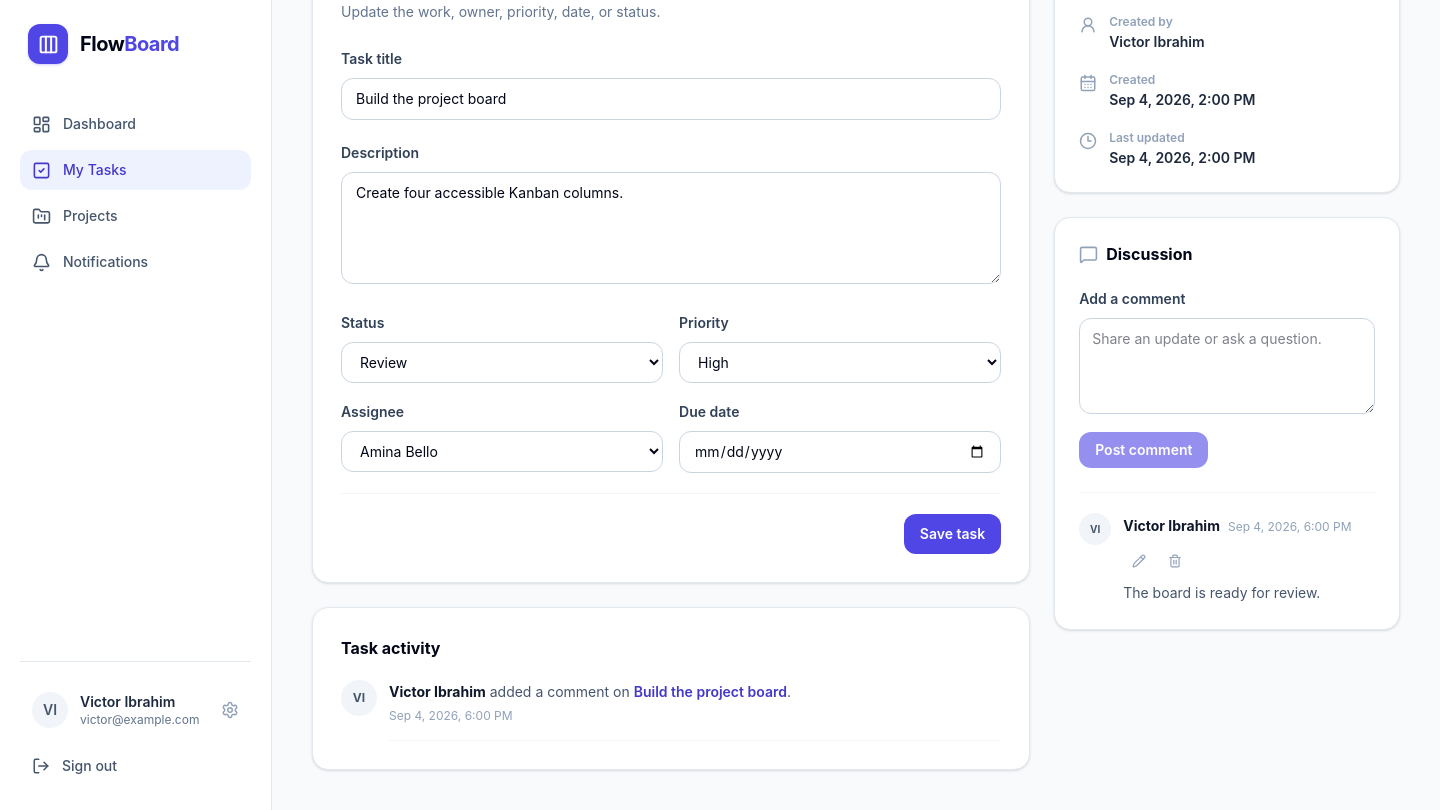
Test: FlowBoard comments and activity UI › edits the signed-in user's own comment
The image size is (1440, 810).
(page scrolled)
Click the button named "Edit comment by Victor Ibrahim" at (1139, 561), box [1123,545,1155,577]
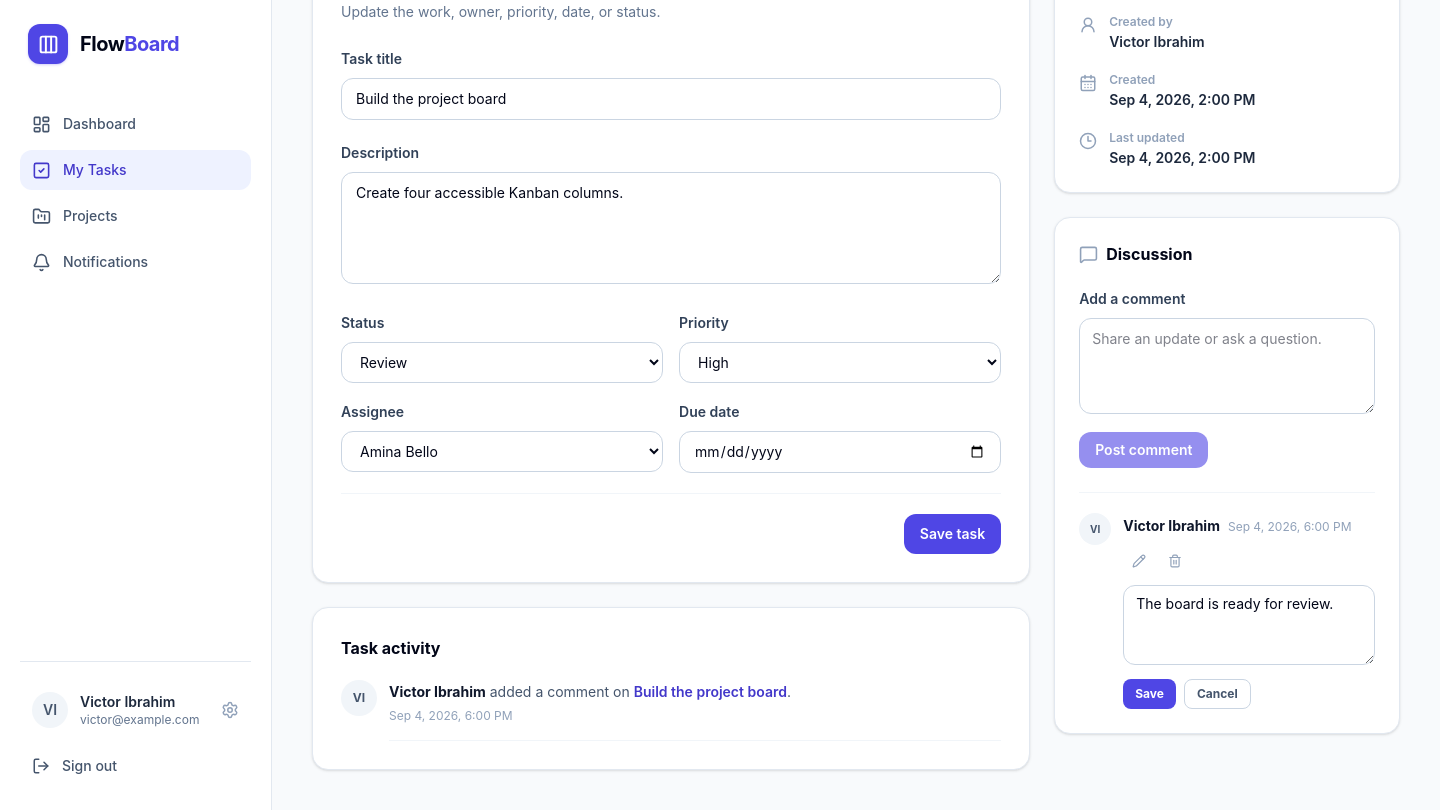
Replace the text in the text box named "Edit comment" with "The updated board is ready." at (1249, 625), box [1123,585,1375,665]
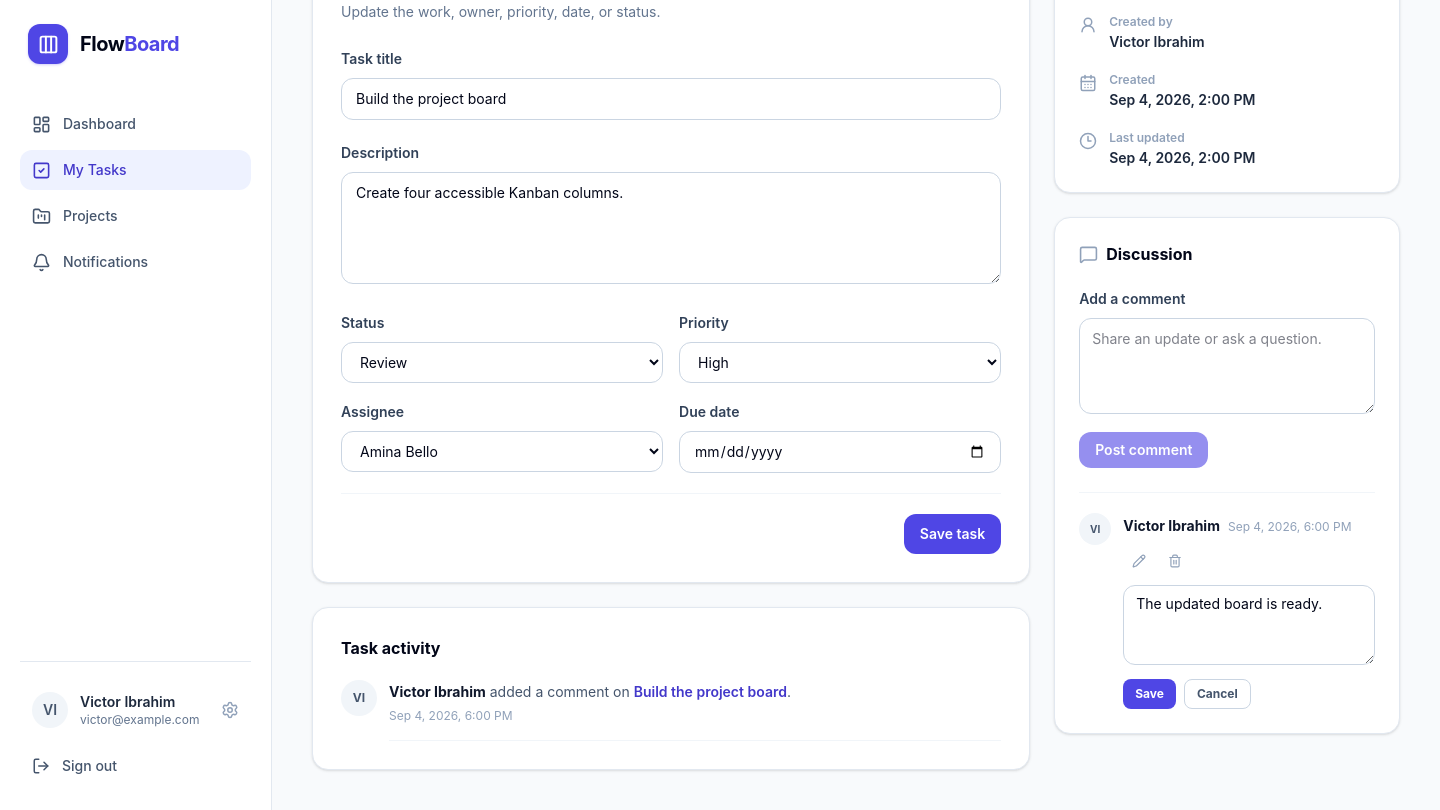
Click the button "Save" at (1150, 694), box [1123,679,1176,709]
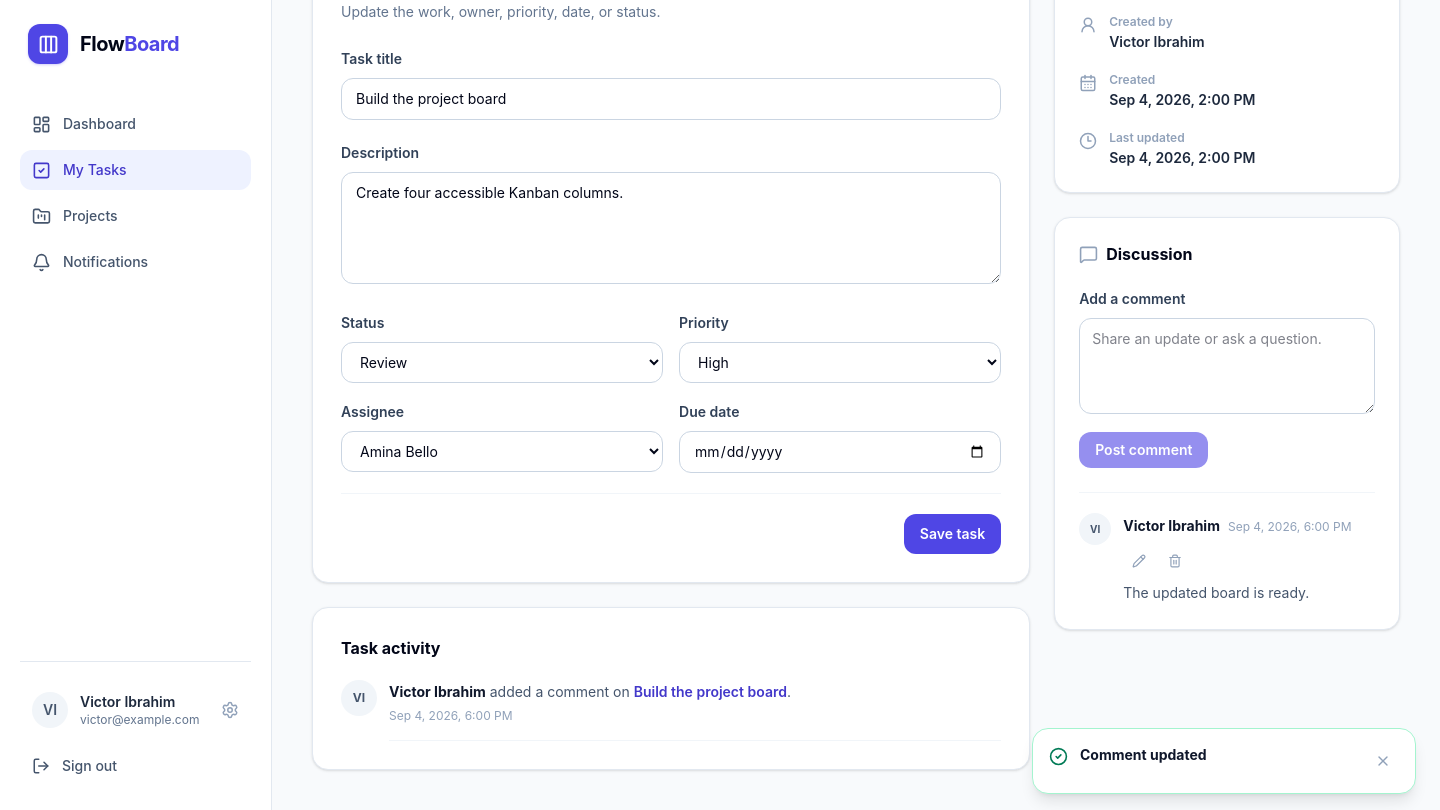
expect the field labelled "Edit comment" is not shown: met
expect the text "The updated board is ready." is shown: met, box [1123,584,1309,601]
